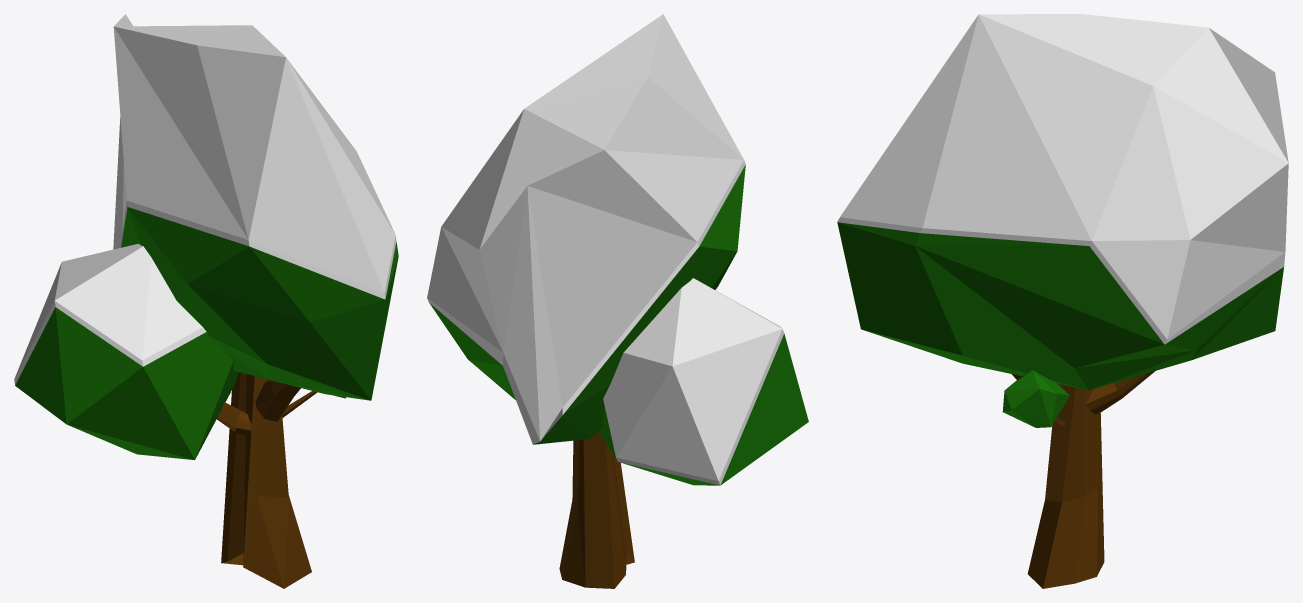
File: Bush#7_Snow.fbx
3 renders of one model, left to right at view 1: azimuth 30°, elevation 25°; view 2: azimuth 150°, elevation 25°; view 3: azimuth 270°, elevation 25°, orthographic. The views are drawn at different scales.
Visible parts, largest first — view 1: Bush#7_Snow; view 2: Bush#7_Snow; view 3: Bush#7_Snow.
Part boxes in pixels (bbox=[...]): Bush#7_Snow: bbox=[14, 14, 398, 588]; Bush#7_Snow: bbox=[427, 14, 808, 588]; Bush#7_Snow: bbox=[837, 14, 1288, 588].
Size of the model in its own units: 125 by 200 by 149.
